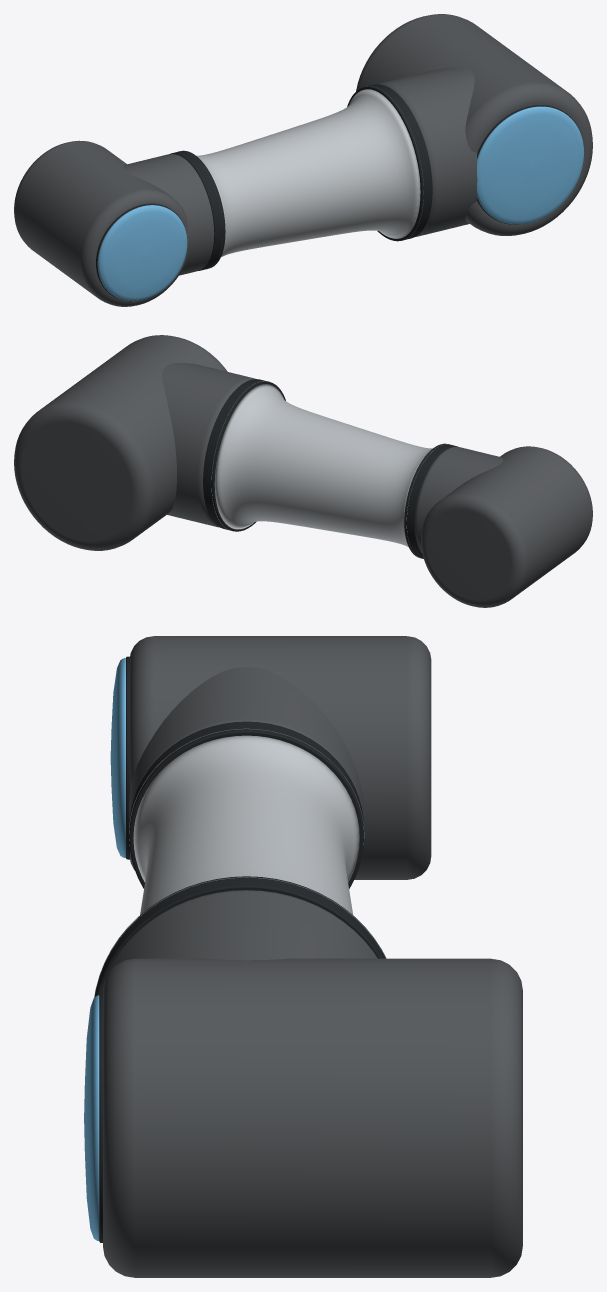
The model's file is upper_arm_link.obj.
3 views of the same model, one above another, from view 1: azimuth 30°, elevation 25°; view 2: azimuth 150°, elevation 25°; view 3: azimuth 270°, elevation 25° (orthographic). The views are drawn at different scales.
Visible parts, largest first — view 1: upper_tube, shoulder_housing, upper_elbow_housing, shoulder_cap, shoulder_neck, upper_elbow_cap, upper_elbow_neck, shoulder_tube_seal, upper_elbow_tube_seal; view 2: shoulder_housing, upper_tube, upper_elbow_housing, shoulder_neck, upper_elbow_neck, shoulder_tube_seal, upper_elbow_tube_seal; view 3: shoulder_housing, upper_elbow_housing, upper_tube, shoulder_neck, upper_elbow_neck, upper_elbow_tube_seal, shoulder_tube_seal, shoulder_cap, upper_elbow_cap, shoulder_cap_gasket.
Part boxes in pixels (<box>): upper_tube: <box>178,86,423,268</box>; shoulder_housing: <box>356,14,592,235</box>; upper_elbow_housing: <box>14,140,187,306</box>; shoulder_cap: <box>476,106,583,224</box>; shoulder_neck: <box>378,67,477,236</box>; upper_elbow_cap: <box>97,205,187,301</box>; upper_elbow_neck: <box>123,154,214,275</box>; shoulder_tube_seal: <box>347,84,432,241</box>; upper_elbow_tube_seal: <box>169,150,225,270</box>; shoulder_housing: <box>14,335,227,550</box>; upper_tube: <box>211,381,447,556</box>; upper_elbow_housing: <box>421,446,592,607</box>; shoulder_neck: <box>162,363,255,527</box>; upper_elbow_neck: <box>415,447,503,553</box>; shoulder_tube_seal: <box>203,379,285,531</box>; upper_elbow_tube_seal: <box>404,443,458,558</box>; shoulder_housing: <box>103,958,522,1277</box>; upper_elbow_housing: <box>130,636,431,879</box>; upper_tube: <box>94,728,386,996</box>; shoulder_neck: <box>98,890,377,994</box>; upper_elbow_neck: <box>129,667,363,820</box>; upper_elbow_tube_seal: <box>129,721,363,888</box>; shoulder_tube_seal: <box>94,876,385,996</box>; shoulder_cap: <box>84,995,99,1240</box>; upper_elbow_cap: <box>110,658,125,857</box>; shoulder_cap_gasket: <box>99,993,102,1242</box>.
Size of the model in its own units: 0.632 by 0.178 by 0.2446.
